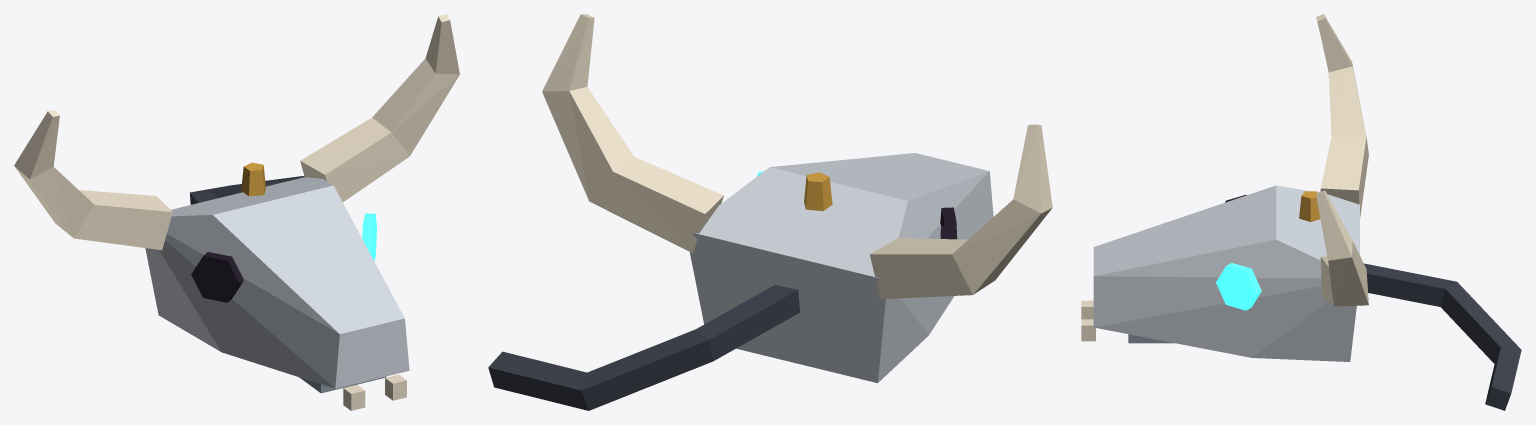
File: Prop_RoboCowSkull.fbx
The picture shows the model from 3 angles, left to right: view 1: azimuth 30°, elevation 25°; view 2: azimuth 150°, elevation 25°; view 3: azimuth 270°, elevation 25°; orthographic projection. The views are drawn at different scales.
Visible parts, largest first — view 1: Prop_RoboCowSkull; view 2: Prop_RoboCowSkull; view 3: Prop_RoboCowSkull.
Boxes of the visible parts, bbox=[...] form: Prop_RoboCowSkull: bbox=[14, 14, 459, 410]; Prop_RoboCowSkull: bbox=[488, 14, 1052, 410]; Prop_RoboCowSkull: bbox=[1081, 14, 1521, 410].
Bounding box in the file's own units: 0.9381 × 0.5105 × 0.8924.
